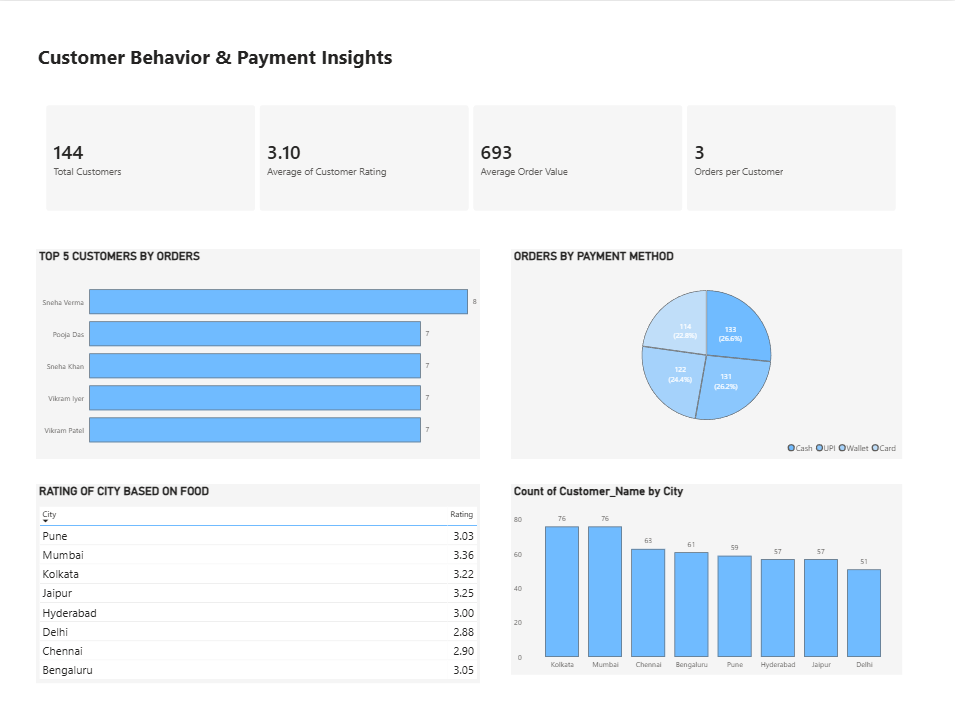

This screenshot's page, from the dashboard's own definition file:
{"tool":"powerbi","page":{"name":"Customer Insights","canvas":[1600,1200],"ordinal":3},"visuals":[{"type":"pieChart","title":"ORDERS BY PAYMENT METHOD","fields":{"Category":["Food_Delivery_Orders.Payment_Method"],"Y":["Food_Delivery_Orders.Total Orders"]},"box":[858.3,413.3,651.7,350],"z":0},{"type":"tableEx","title":"RATING OF CITY BASED ON FOOD","fields":{"Values":["Food_Delivery_Orders.Customer_City","Avg(Food_Delivery_Orders.Customer_Rating)"]},"box":[66.7,805,740,331.7],"z":1000},{"type":"columnChart","fields":{"Category":["Food_Delivery_Orders.Customer_City"],"Y":["CountNonNull(Food_Delivery_Orders.Customer_Name)"]},"box":[858.3,805,651.7,318.3],"z":2000},{"type":"barChart","title":"TOP 5 CUSTOMERS BY ORDERS","fields":{"Category":["Food_Delivery_Orders.Customer_Name"],"Y":["Food_Delivery_Orders.Total Orders"]},"box":[66.7,413.3,740,350],"z":3000},{"type":"cardVisual","fields":{"Data":["Count(Food_Delivery_Orders.Customer_ID)","Avg(Food_Delivery_Orders.Customer_Rating)","Food_Delivery_Orders.Average Order Value","Food_Delivery_Orders.Orders per Customer"]},"box":[66,156,1450,210],"z":4000},{"type":"textbox","box":[65,65,606.7,75],"z":5000}]}

Visuals, with their boxes in screenshot pixels (x1, y1, x2, y2), scaled from the page's 1600x1200 canvas onto the 955x718 screenshot:
"ORDERS BY PAYMENT METHOD" pieChart: x1=512 y1=247 x2=901 y2=457
"RATING OF CITY BASED ON FOOD" tableEx: x1=40 y1=482 x2=481 y2=680
columnChart - Food_Delivery_Orders.Customer_City x CountNonNull(Food_Delivery_Orders.Customer_Name): x1=512 y1=482 x2=901 y2=672
"TOP 5 CUSTOMERS BY ORDERS" barChart: x1=40 y1=247 x2=481 y2=457
cardVisual - Count(Food_Delivery_Orders.Customer_ID) x Avg(Food_Delivery_Orders.Customer_Rating): x1=39 y1=93 x2=905 y2=219
textbox: x1=39 y1=39 x2=401 y2=84
